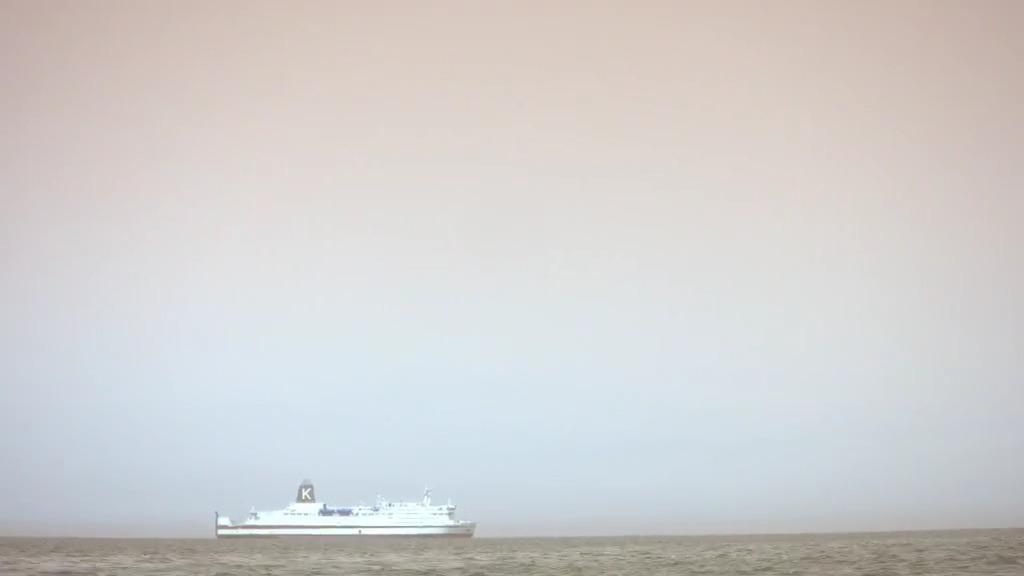PassengerShip: (210, 477, 482, 541)
